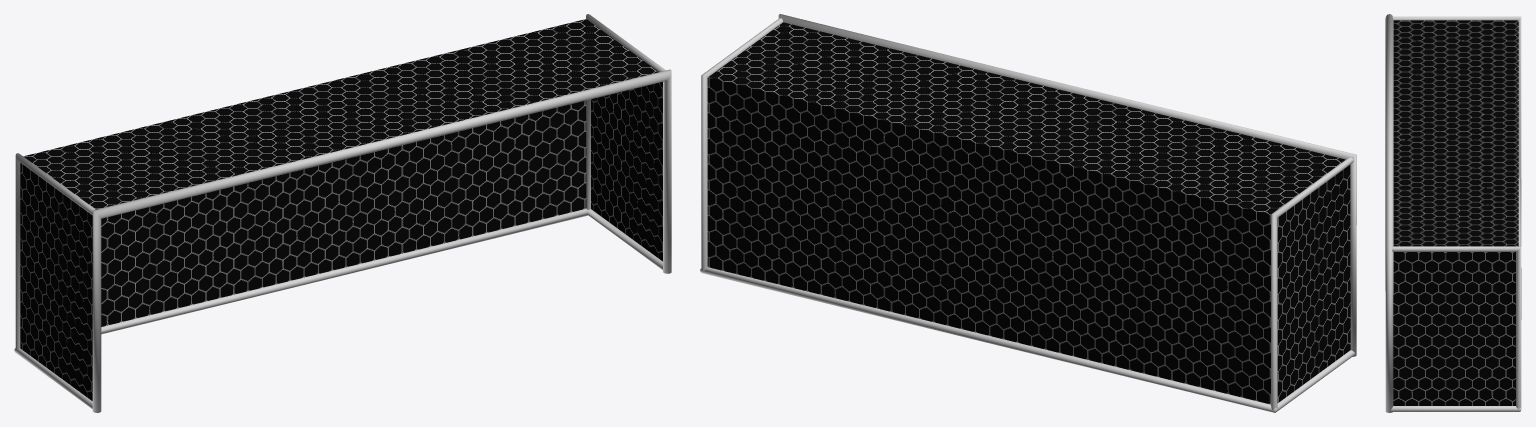
Rendered from football_goal_721.glb.
3 views of the same model, side by side, from view 1: azimuth 30°, elevation 25°; view 2: azimuth 150°, elevation 25°; view 3: azimuth 270°, elevation 25° (orthographic). The views are drawn at different scales.
Parts seen in each view (by area): view 1: Object_3, Object_2; view 2: Object_3, Object_2; view 3: Object_3, Object_2.
Part boxes in pixels (x1,y1,x2,y2): Object_3: [20, 19, 662, 400]; Object_2: [14, 14, 671, 412]; Object_3: [707, 22, 1350, 404]; Object_2: [700, 14, 1356, 412]; Object_3: [1393, 20, 1518, 405]; Object_2: [1385, 14, 1521, 412].
Bounding box in the file's own units: 732 × 244 × 181.
2 materials, 1 textured.
